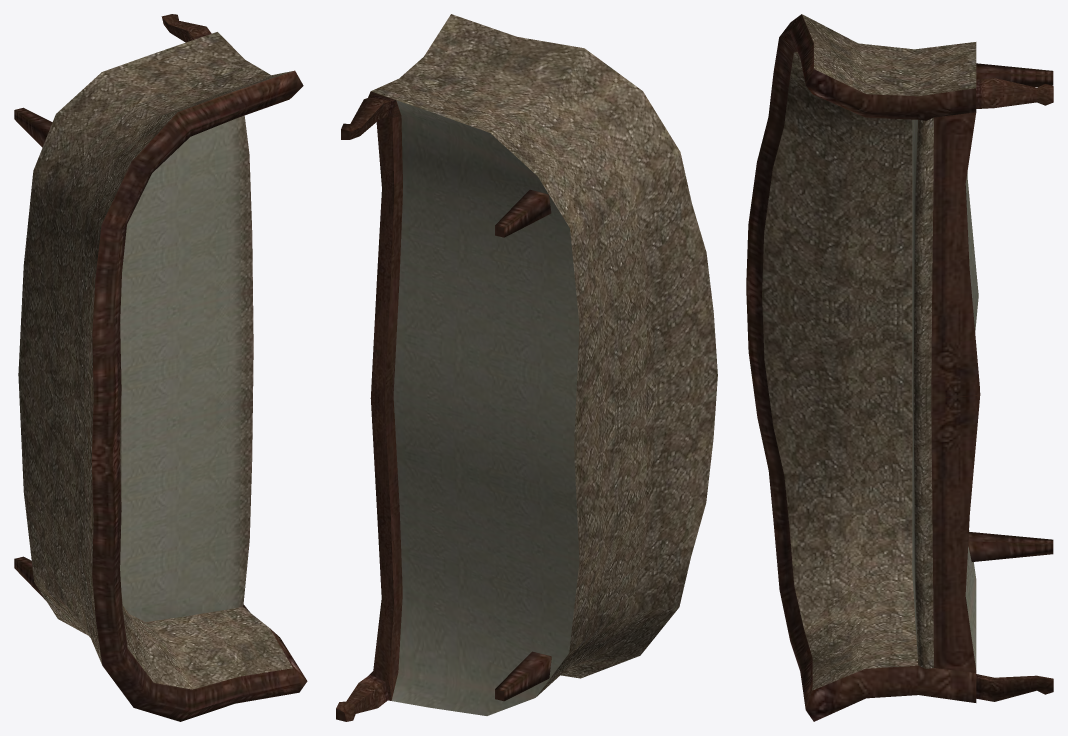
Rendered from furniture_duhoc_couch.glb.
3 views of the same model, side by side, from view 1: azimuth 30°, elevation 25°; view 2: azimuth 150°, elevation 25°; view 3: azimuth 270°, elevation 25° (orthographic). The views are drawn at different scales.
Bounding box in the file's own units: 38.69 × 95.73 × 41.02.
Materials: 1 (1 with a texture image).
